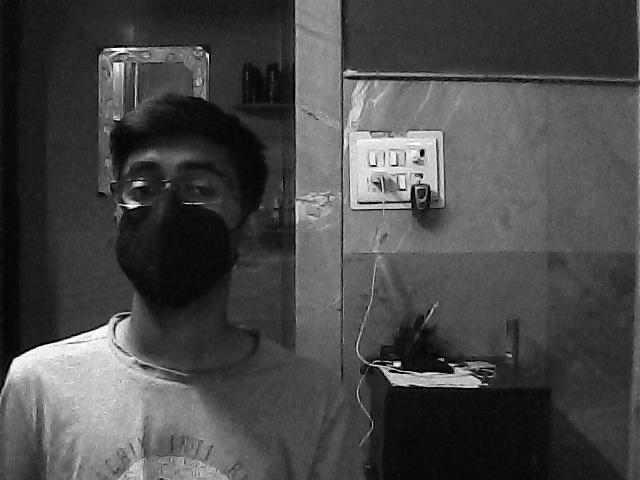mask: (112, 164, 242, 320)
